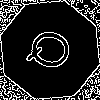Q: (25, 25, 82, 77)
